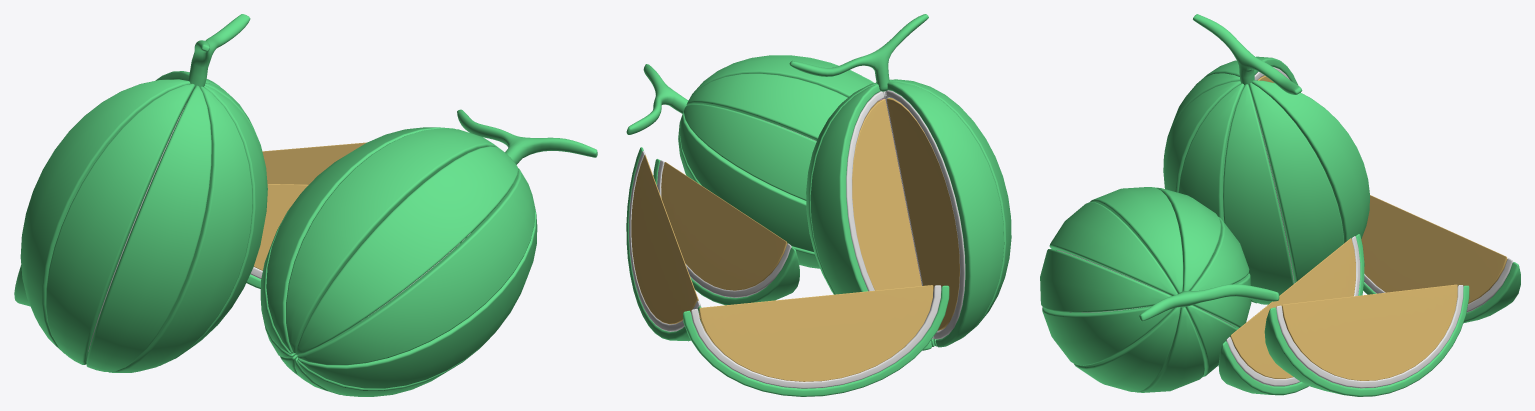
Rendered from DGLXX_honeydew.fbx.
3 views of the same model, side by side, from view 1: azimuth 30°, elevation 25°; view 2: azimuth 150°, elevation 25°; view 3: azimuth 270°, elevation 25° (orthographic). The views are drawn at different scales.
Visible parts, largest first — view 1: polySurface83, polySurface82, polySurface105, polySurface106, polySurface94, polySurface84, polySurface81, polySurface107, polySurface113, polySurface85, group6_4, pCube5 (+4 smaller); view 2: group7_1, polySurface81, group8_1, group7_4, group6_5, polySurface88, polySurface112, group6_4, polySurface113, polySurface111, polySurface90, polySurface94 (+12 smaller); view 3: group6_4, group7_1, polySurface86, polySurface87, polySurface88, polySurface106, polySurface105, group8_1, polySurface107, polySurface94, polySurface85, polySurface108 (+15 smaller).
Boxes of the visible parts, <box> form: polySurface83: <box>86,85,211,371</box>; polySurface82: <box>46,83,194,364</box>; polySurface105: <box>295,146,518,355</box>; polySurface106: <box>298,168,535,365</box>; polySurface94: <box>286,128,497,353</box>; polySurface84: <box>108,86,252,372</box>; polySurface81: <box>20,79,190,353</box>; polySurface107: <box>298,209,537,388</box>; polySurface113: <box>266,127,455,352</box>; polySurface85: <box>160,85,267,365</box>; group6_4: <box>262,142,366,184</box>; pCube5: <box>457,109,597,164</box>; group7_1: <box>699,285,933,381</box>; polySurface81: <box>887,82,1004,347</box>; group8_1: <box>661,162,787,290</box>; group7_4: <box>852,99,921,290</box>; group6_5: <box>886,98,959,330</box>; polySurface88: <box>810,84,931,350</box>; polySurface112: <box>684,104,816,200</box>; group6_4: <box>631,155,698,324</box>; polySurface113: <box>686,73,847,140</box>; polySurface111: <box>679,111,813,252</box>; polySurface90: <box>683,285,949,396</box>; polySurface94: <box>690,55,873,97</box>; group6_4: <box>1282,284,1457,380</box>; group7_1: <box>1361,195,1507,303</box>; polySurface86: <box>1223,84,1293,304</box>; polySurface87: <box>1249,83,1343,283</box>; polySurface88: <box>1252,80,1369,243</box>; polySurface106: <box>1040,249,1171,312</box>; polySurface105: <box>1049,202,1177,295</box>; group8_1: <box>1230,238,1355,378</box>; polySurface107: <box>1042,306,1174,365</box>; polySurface94: <box>1090,187,1183,293</box>; polySurface85: <box>1178,83,1256,303</box>; polySurface108: <box>1073,307,1180,392</box>.
Size of the model in its own units: 471 by 322 by 463.
